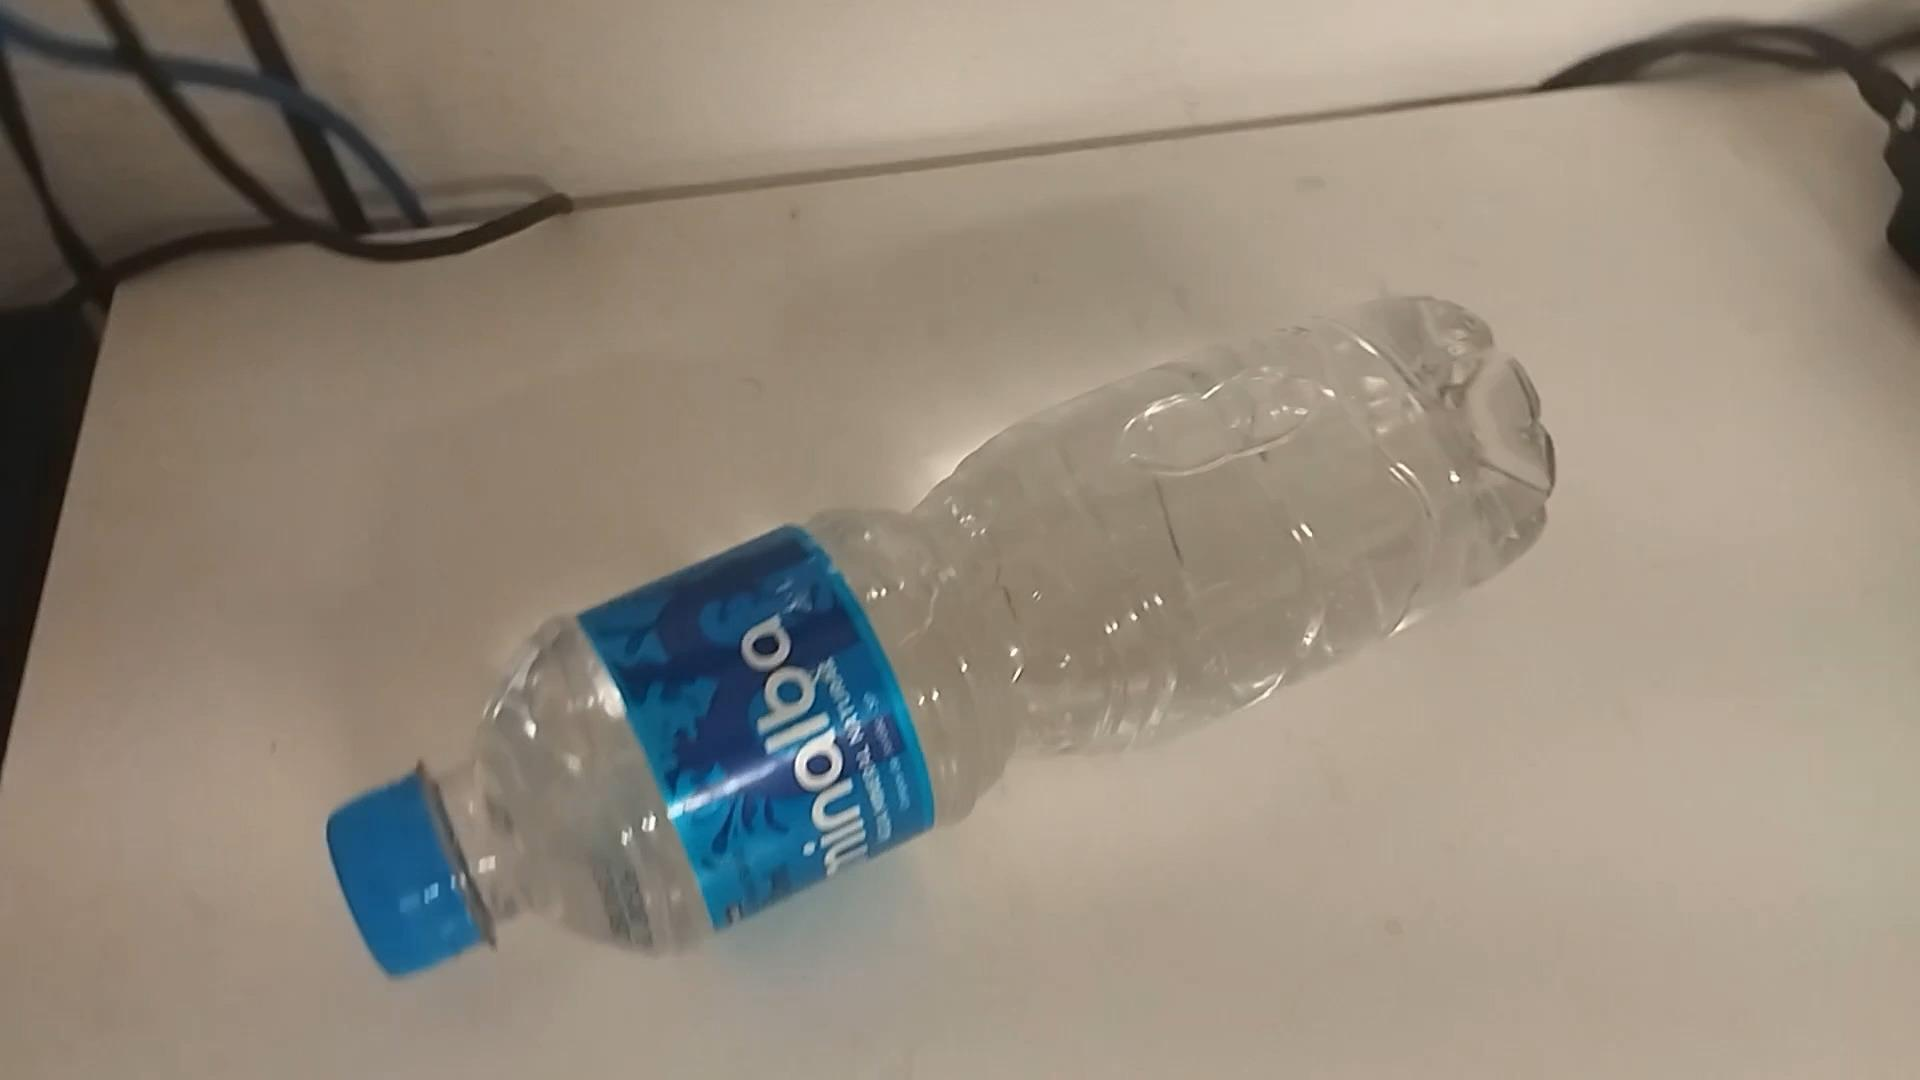agua: (338, 302, 1514, 972)
